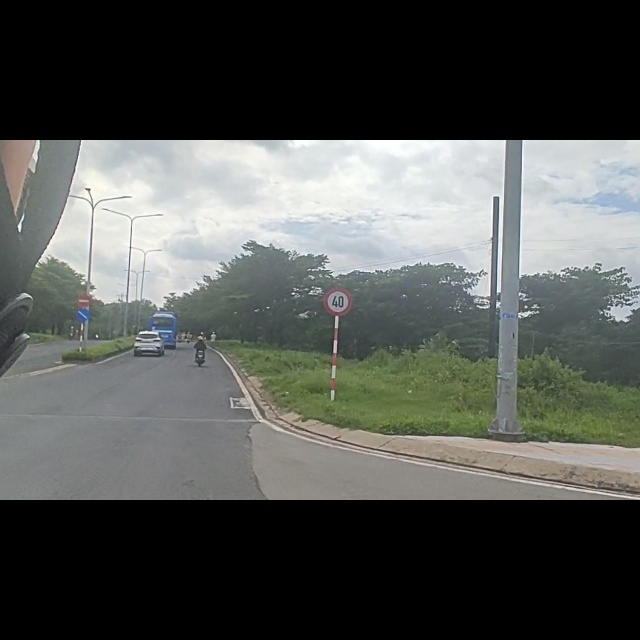bien_cam: (322, 260, 358, 314), (73, 296, 92, 328), (77, 271, 92, 300)
